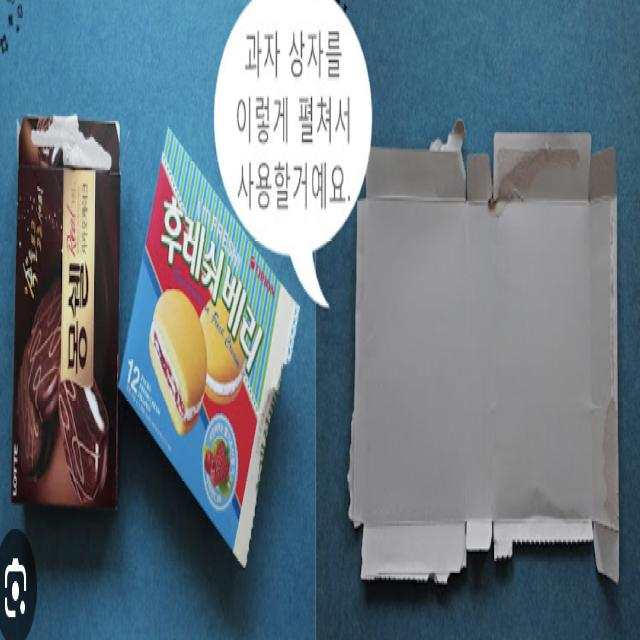biodegradable: (344, 100, 630, 606), (123, 126, 304, 590), (8, 94, 122, 512)
